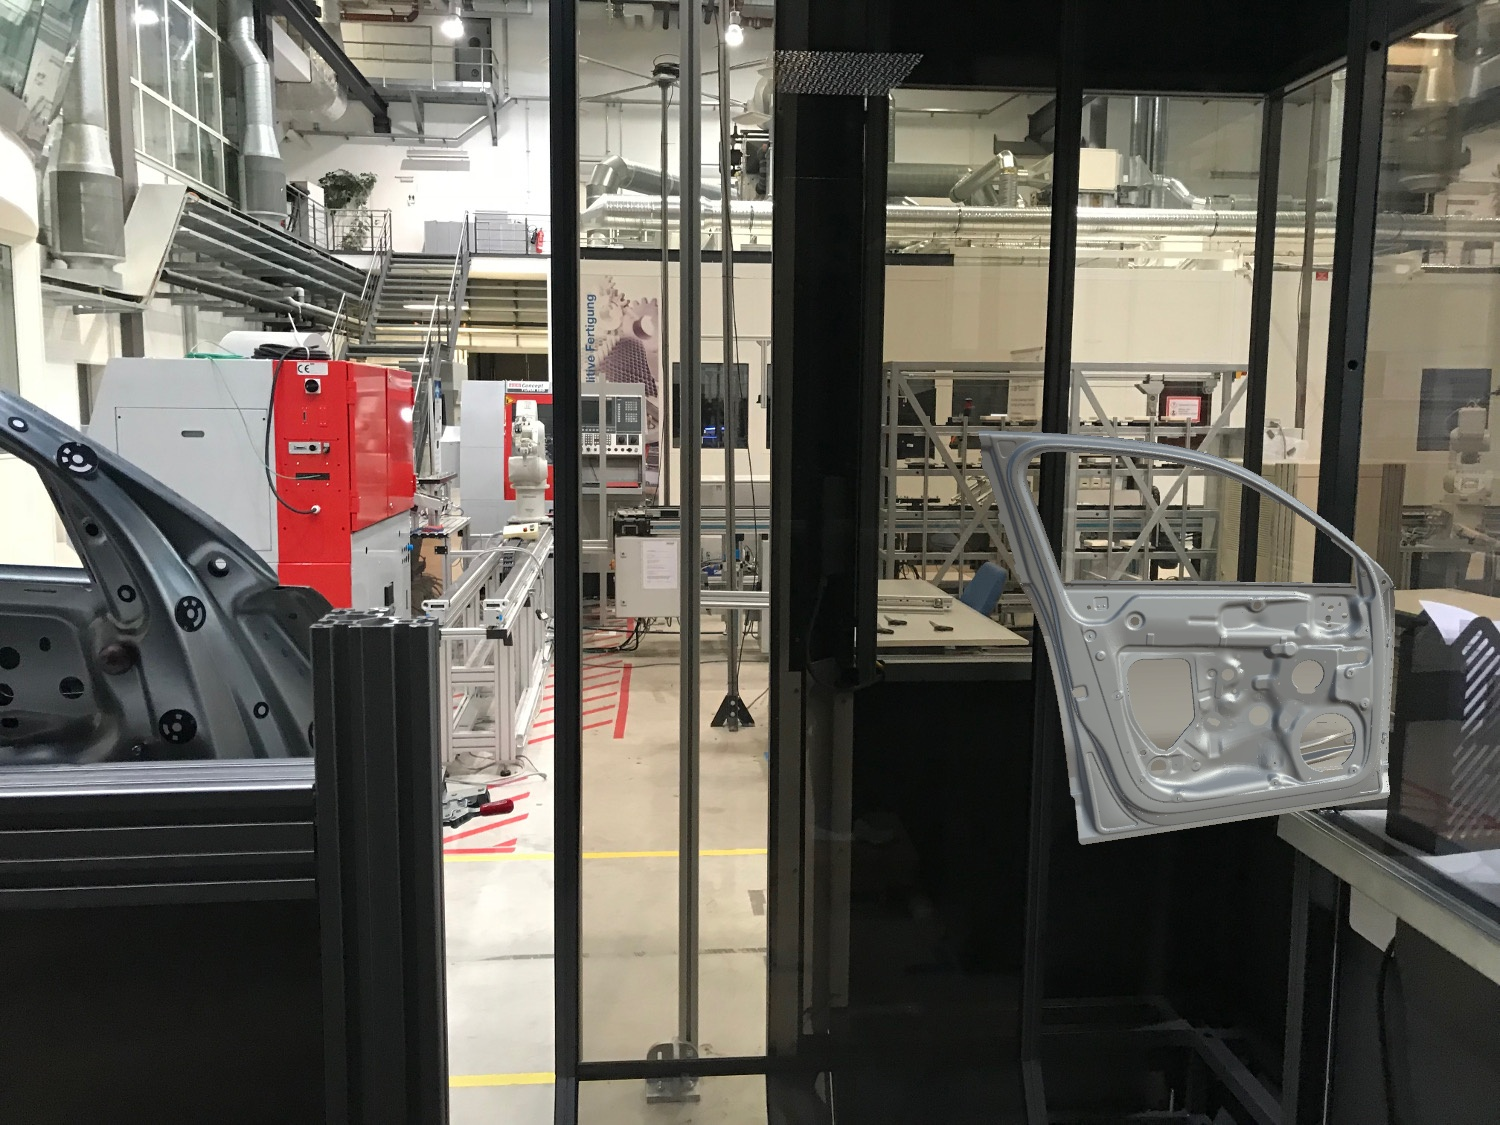car_door: (978, 430, 1395, 844)
